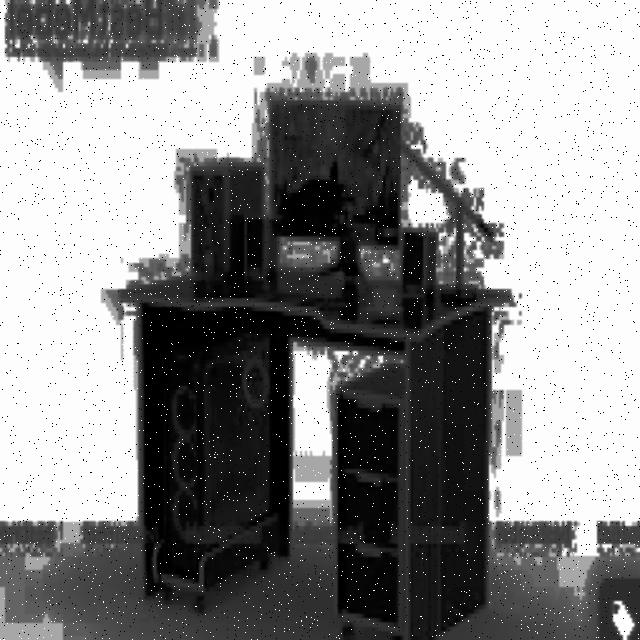table: (121, 263, 506, 640)
